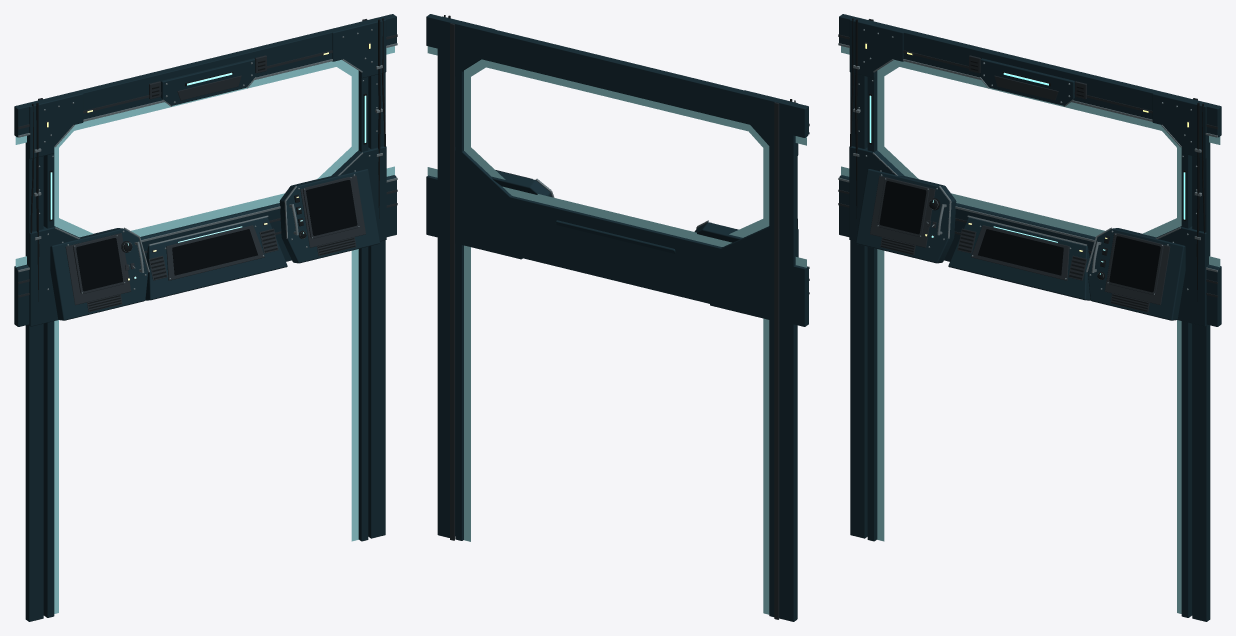
File: cabina-scifi.glb
3 renders of one model, left to right at view 1: azimuth 30°, elevation 25°; view 2: azimuth 150°, elevation 25°; view 3: azimuth 330°, elevation 25°, orthographic.
Visible parts, largest first — view 1: Poste exterior, Riel superior, Poste exterior.001, Poste interior, Poste interior.001, Consola central, Cuerpo de consola, Cuerpo de consola.001, Riel inferior, Reflejo pilar.001, Chaflán inferior, Chaflán superior (+16 smaller); view 2: Riel inferior, Riel superior, Poste exterior, Chaflán inferior.001, Chaflán inferior, Poste exterior.001, Poste interior.001, Fondo de rendija, Poste interior, Reflejo pilar, Reflejo pilar.001, Fondo de rendija.001 (+7 smaller); view 3: Poste exterior.001, Riel superior, Poste exterior, Poste interior.001, Poste interior, Consola central, Cuerpo de consola, Cuerpo de consola.001, Riel inferior, Reflejo pilar, Chaflán inferior.001, Chaflán superior.001 (+16 smaller).
Part boxes in pixels (left/top/right/bottom): Poste exterior: left=25, top=142, right=43, bottom=621; Riel superior: left=14, top=14, right=396, bottom=137; Poste exterior.001: left=368, top=72, right=385, bottom=538; Poste interior: left=43, top=153, right=54, bottom=617; Poste interior.001: left=358, top=72, right=368, bottom=541; Consola central: left=145, top=217, right=287, bottom=300; Cuerpo de consola: left=50, top=228, right=148, bottom=320; Cuerpo de consola.001: left=279, top=169, right=379, bottom=263; Riel inferior: left=14, top=175, right=396, bottom=326; Reflejo pilar.001: left=351, top=70, right=358, bottom=541; Chaflán inferior: left=25, top=226, right=79, bottom=326; Chaflán superior: left=25, top=91, right=83, bottom=159; Riel inferior: left=426, top=175, right=808, bottom=326; Riel superior: left=426, top=14, right=808, bottom=137; Poste exterior: left=779, top=104, right=797, bottom=621; Chaflán inferior.001: left=438, top=147, right=522, bottom=259; Chaflán inferior: left=710, top=226, right=798, bottom=324; Poste exterior.001: left=437, top=20, right=455, bottom=537; Poste interior.001: left=455, top=24, right=463, bottom=540; Fondo de rendija: left=774, top=102, right=779, bottom=619; Poste interior: left=769, top=101, right=774, bottom=616; Reflejo pilar: left=763, top=145, right=769, bottom=614; Reflejo pilar.001: left=464, top=70, right=470, bottom=541; Fondo de rendija.001: left=450, top=23, right=454, bottom=540; Poste exterior.001: left=1192, top=136, right=1210, bottom=621; Riel superior: left=839, top=14, right=1221, bottom=137; Poste exterior: left=850, top=72, right=867, bottom=538; Poste interior.001: left=1181, top=153, right=1192, bottom=617; Poste interior: left=867, top=71, right=877, bottom=541; Consola central: left=948, top=217, right=1090, bottom=300; Cuerpo de consola: left=856, top=169, right=956, bottom=263; Cuerpo de consola.001: left=1087, top=228, right=1185, bottom=320; Riel inferior: left=839, top=175, right=1221, bottom=326; Reflejo pilar: left=877, top=70, right=884, bottom=541; Chaflán inferior.001: left=1156, top=226, right=1210, bottom=326; Chaflán superior.001: left=1152, top=91, right=1210, bottom=159.
Size of the model in its own units: 2.35 by 3.07 by 0.2169.
